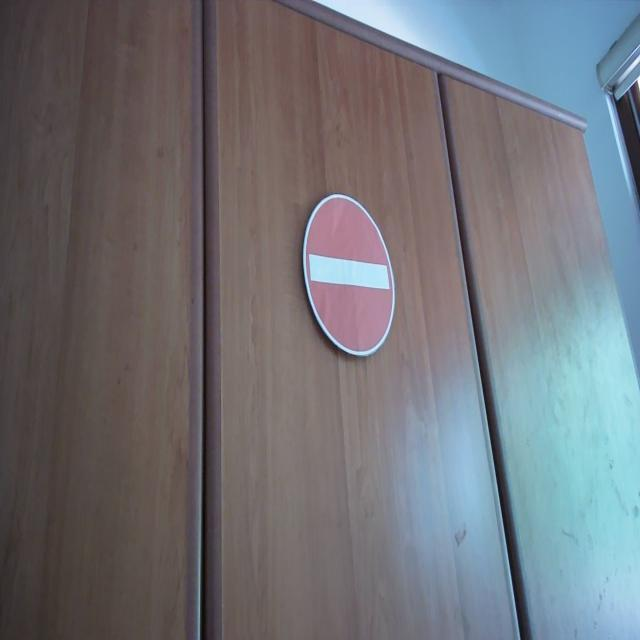no_entry: (301, 190, 397, 360)
